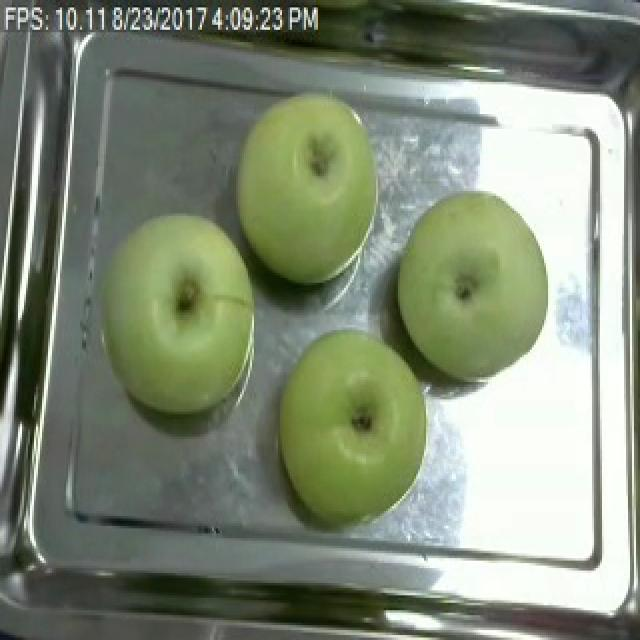50-_ripeness: (96, 205, 258, 450), (389, 168, 556, 394), (279, 314, 431, 524), (233, 84, 381, 293)
